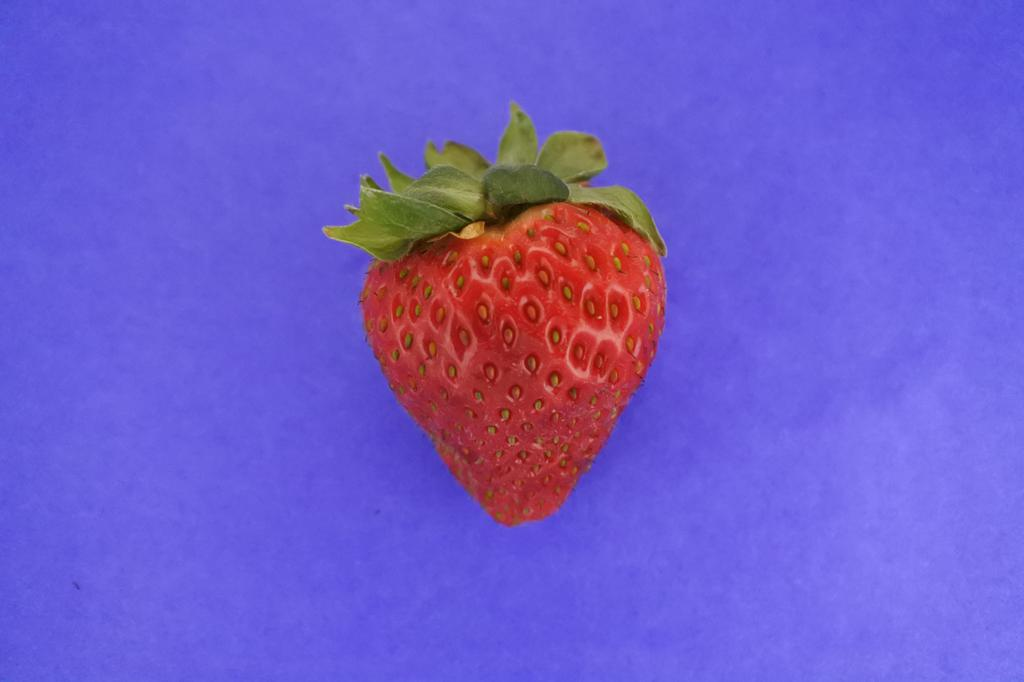red strawberry: (322, 96, 671, 529)
